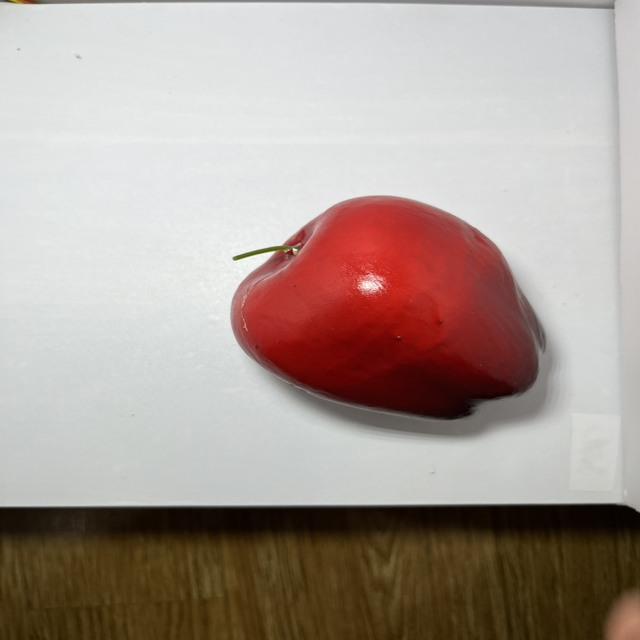Tao: (201, 130, 600, 505)
